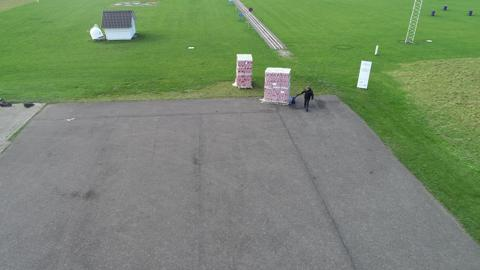RockwoolPallet: (235, 51, 252, 90)
